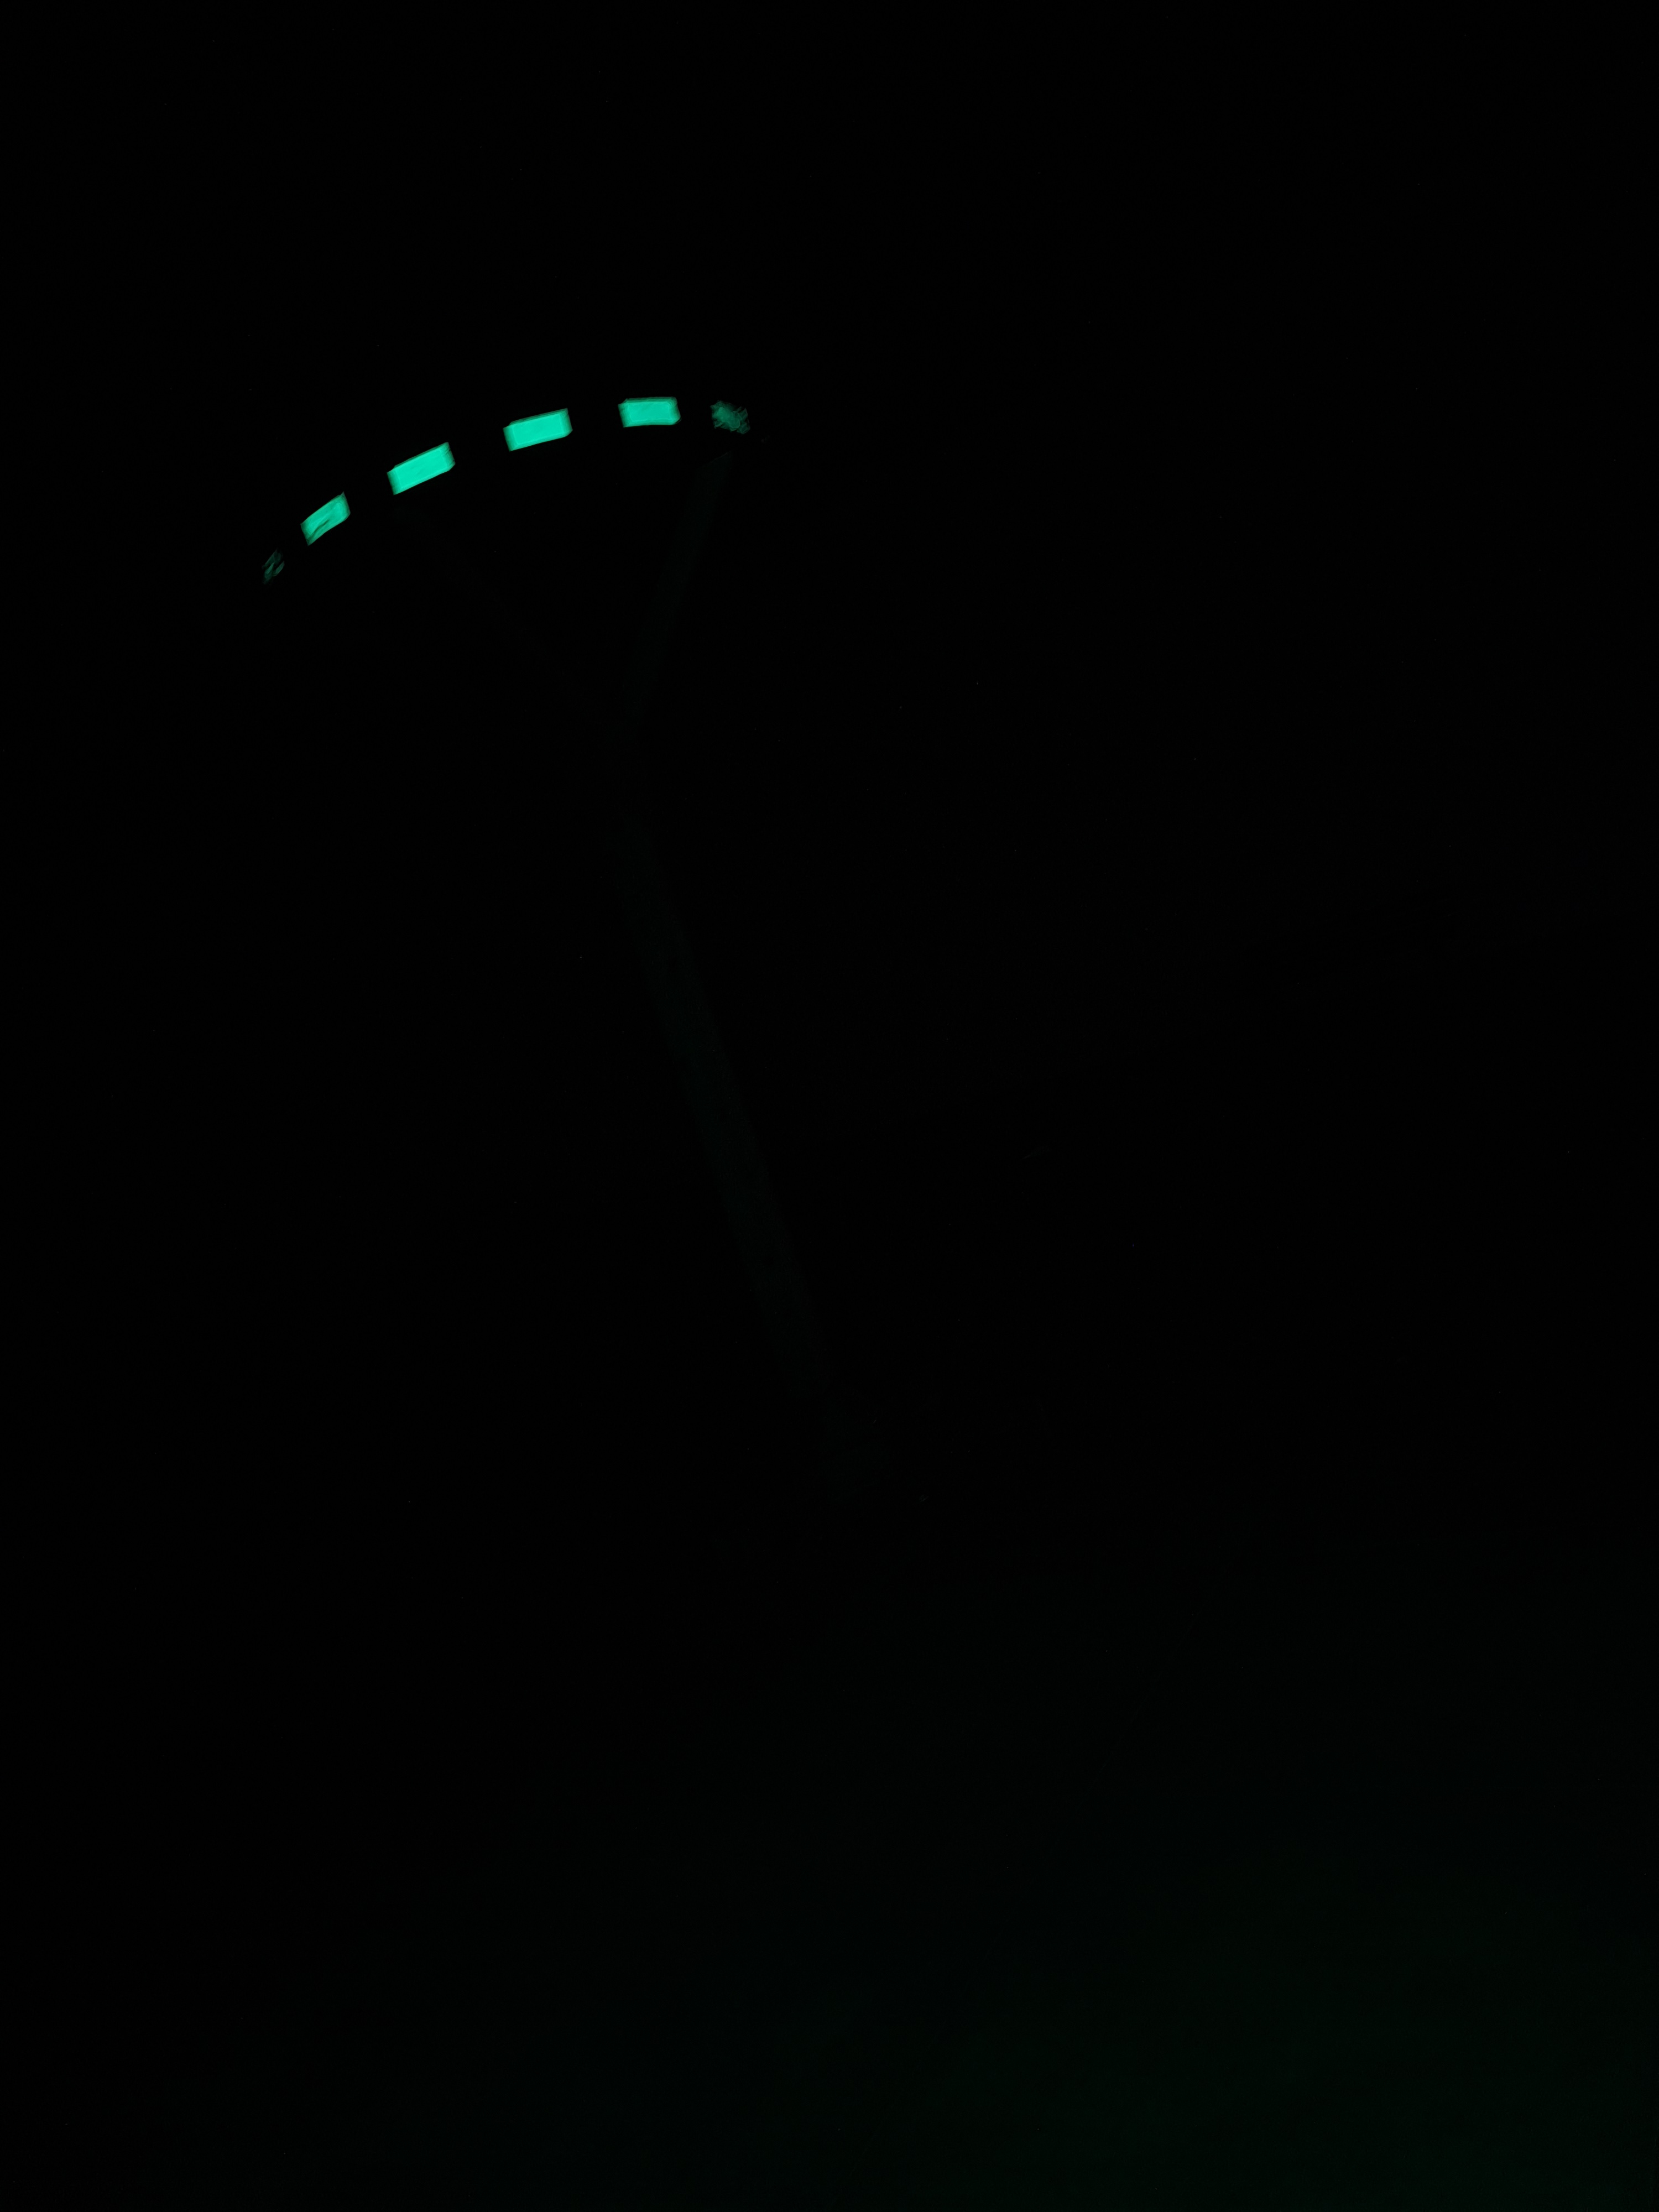hoop: (242, 394, 753, 583)
